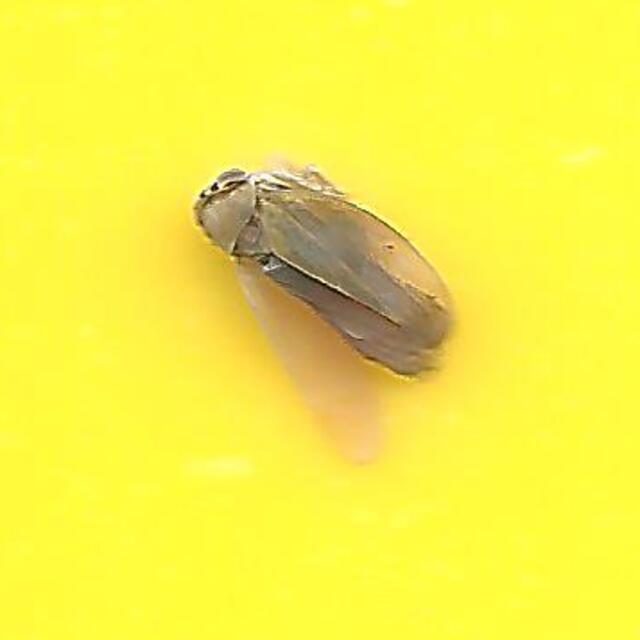Hemiptera: (179, 164, 461, 476)
